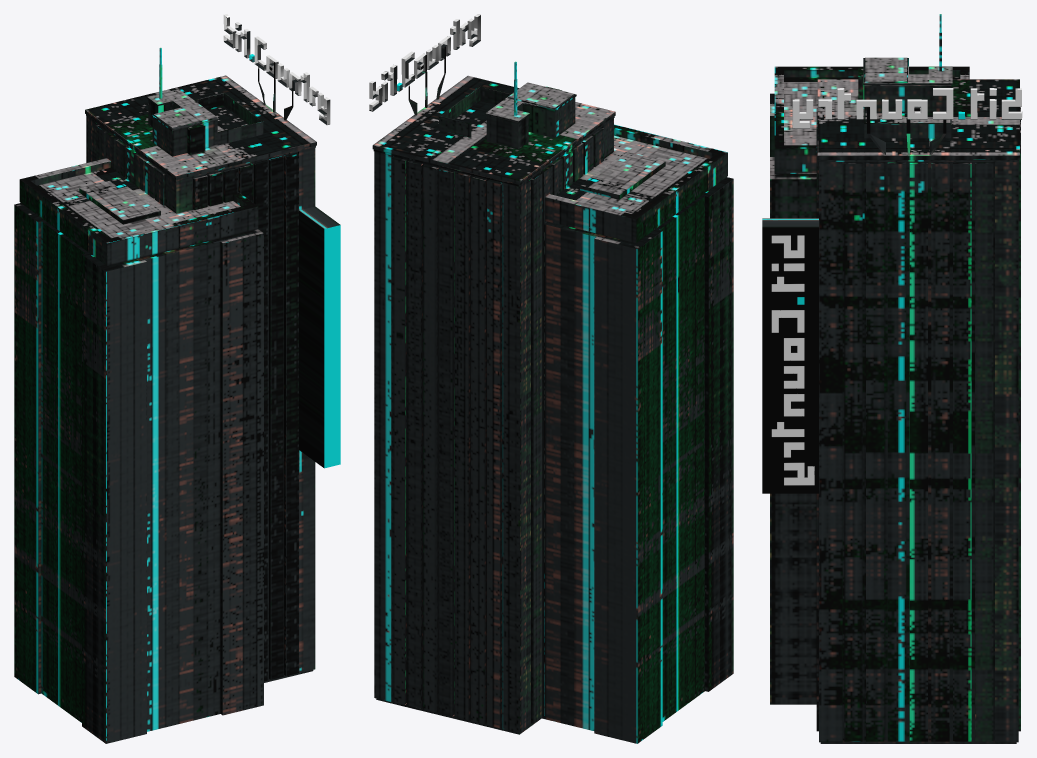
The model's file is Building4.obj.
3 views of the same model, side by side, from view 1: azimuth 30°, elevation 25°; view 2: azimuth 150°, elevation 25°; view 3: azimuth 270°, elevation 25° (orthographic). The views are drawn at different scales.
Visible parts, largest first — view 1: Group5.001_Plane.001; view 2: Group5.001_Plane.001; view 3: Group5.001_Plane.001.
Boxes of the visible parts, x1,y1,x2,y2 form: Group5.001_Plane.001: (14,14,340,743); Group5.001_Plane.001: (369,14,733,743); Group5.001_Plane.001: (762,14,1022,743).
Bounding box in the file's own units: 1.54 × 3.81 × 1.33.
